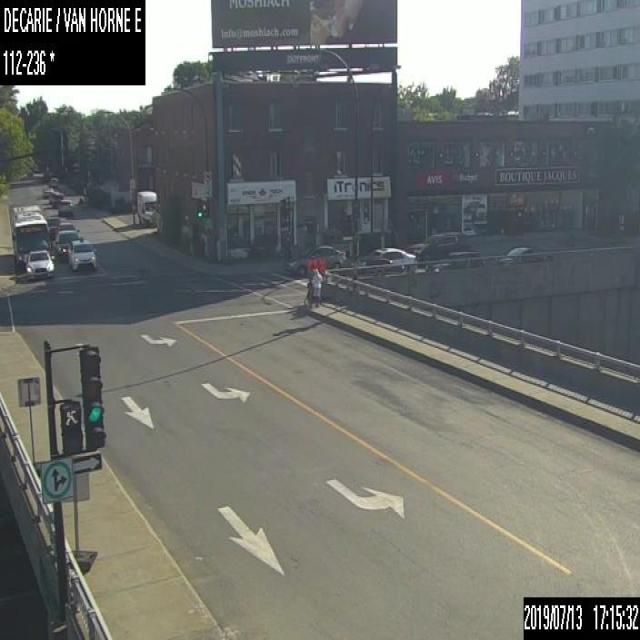bus: (12, 203, 49, 268)
construction: (62, 470, 97, 574), (16, 375, 48, 476)
pedestrian: (305, 268, 322, 311)
vehicle: (351, 245, 415, 274), (288, 244, 343, 275), (412, 231, 468, 258), (424, 250, 483, 272), (494, 245, 550, 265), (66, 236, 96, 270), (26, 249, 54, 277), (136, 190, 157, 226), (54, 230, 81, 258), (46, 212, 64, 242), (57, 220, 80, 236), (57, 199, 73, 215), (50, 191, 64, 207), (43, 185, 53, 198), (48, 176, 57, 187)
